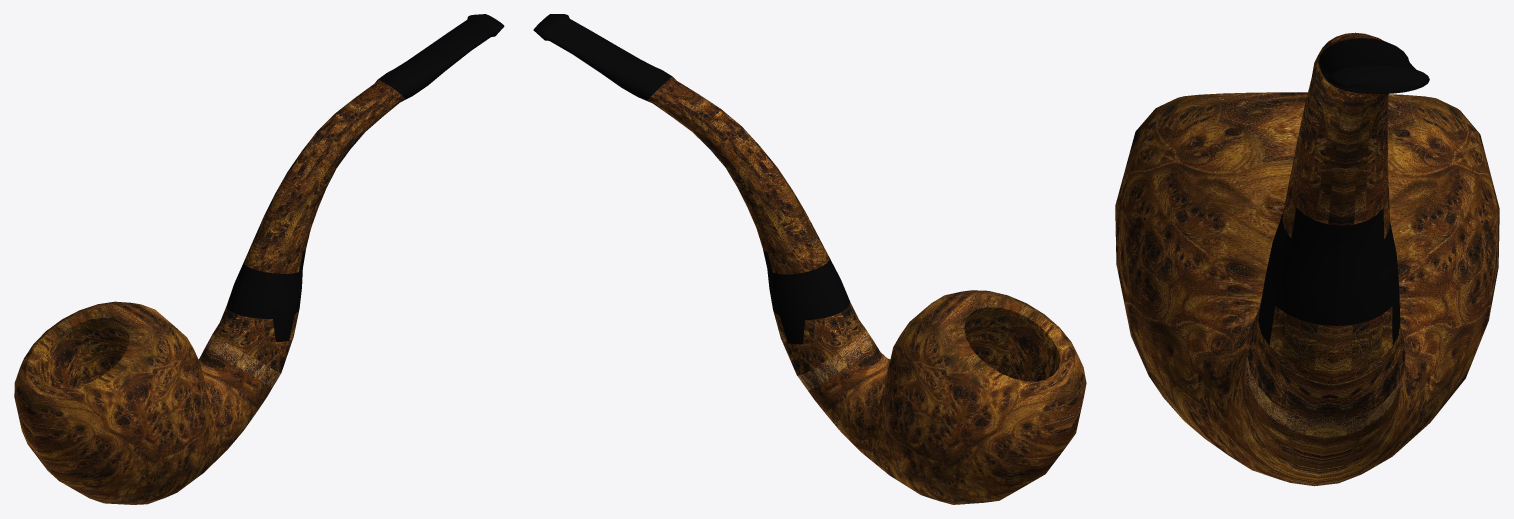
Rendered from Pipe.obj.
The picture shows the model from 3 angles, left to right: view 1: azimuth 30°, elevation 25°; view 2: azimuth 150°, elevation 25°; view 3: azimuth 270°, elevation 25°; orthographic projection. The views are drawn at different scales.
Parts seen in each view (by area): view 1: 27, 33, 13, 1, 37, 42, 34, 29, 14, 8, 49, 16 (+1 smaller); view 2: 1, 8, 39, 11, 27, 16, 4, 9, 40, 33, 22, 42 (+1 smaller); view 3: 27, 1, 33, 37, 29, 4, 11, 8, 42, 30, 34, 5 (+5 smaller).
Part boxes in pixels (x1,y1,x2,y2): 27: (29, 307, 271, 504); 33: (248, 82, 405, 273); 13: (39, 318, 129, 388); 1: (14, 301, 212, 480); 37: (231, 249, 305, 341); 42: (385, 18, 504, 99); 34: (248, 83, 404, 273); 29: (220, 310, 299, 372); 14: (39, 318, 128, 387); 8: (244, 79, 384, 266); 49: (213, 339, 280, 387); 16: (378, 14, 492, 82); 1: (808, 300, 1075, 504); 8: (647, 81, 826, 274); 39: (964, 307, 1059, 381); 11: (763, 249, 846, 344); 27: (869, 290, 1086, 445); 16: (533, 19, 666, 100); 4: (773, 309, 860, 375); 9: (650, 82, 824, 274); 40: (965, 308, 1058, 380); 33: (667, 76, 829, 262); 22: (797, 336, 868, 390); 42: (543, 14, 672, 80); 27: (1115, 92, 1325, 485); 1: (1315, 94, 1499, 485); 33: (1282, 33, 1362, 238); 37: (1258, 208, 1340, 345); 29: (1246, 285, 1335, 419); 4: (1328, 307, 1405, 419); 11: (1335, 208, 1400, 346); 8: (1341, 33, 1389, 238); 42: (1318, 38, 1380, 93); 30: (1247, 303, 1334, 418); 34: (1283, 33, 1360, 234); 5: (1328, 308, 1404, 419).
Size of the model in its own units: 70.19 by 51.51 by 23.98.
Materials: 5 (2 with a texture image).
